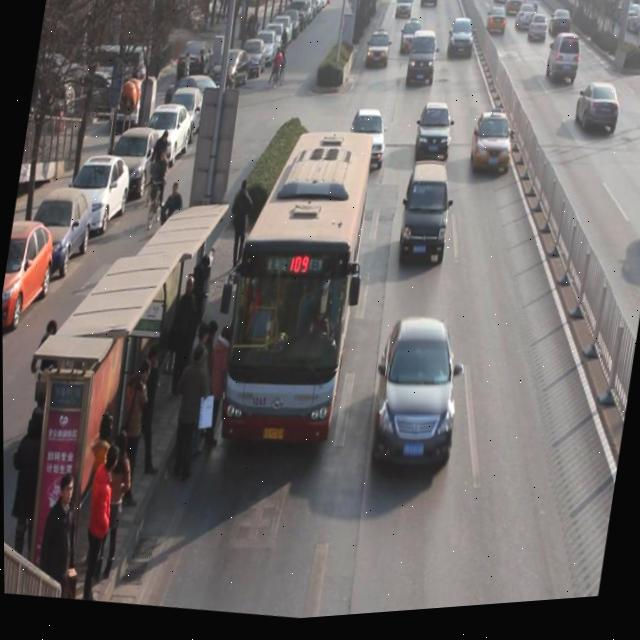car: (364, 317, 470, 485), (466, 112, 517, 189), (344, 111, 391, 178), (573, 88, 623, 148), (413, 107, 456, 172), (446, 22, 477, 69), (364, 32, 393, 78), (397, 22, 422, 64), (485, 11, 509, 46), (547, 16, 573, 48), (526, 21, 549, 54), (514, 9, 536, 42)
truck: (394, 165, 458, 277), (543, 37, 584, 97), (405, 33, 441, 95)
van: (213, 124, 375, 456)
